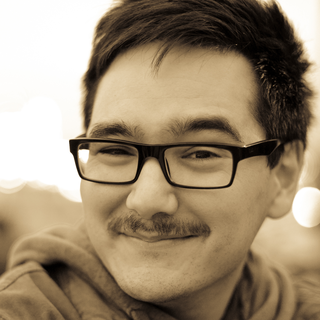eye: (175, 142, 227, 171), (94, 140, 143, 167)
